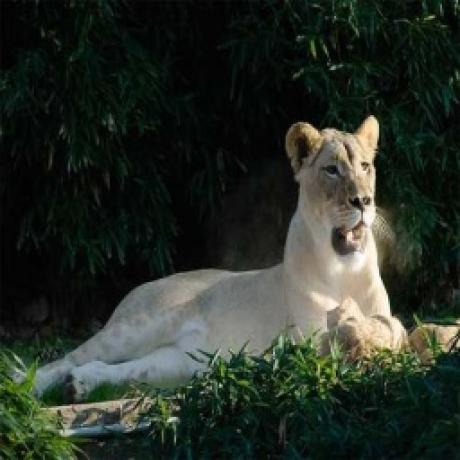Lion: (37, 113, 407, 405)
